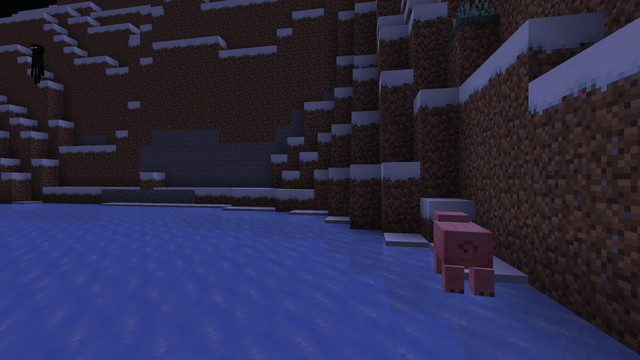cochons: (423, 219, 504, 293)
endermens: (29, 42, 45, 82)
